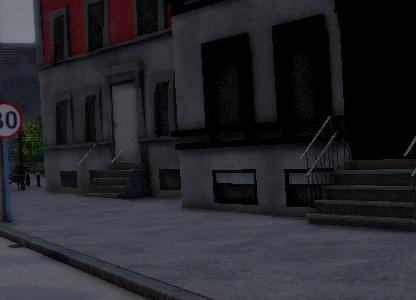Speed_30: (0, 98, 27, 141)
